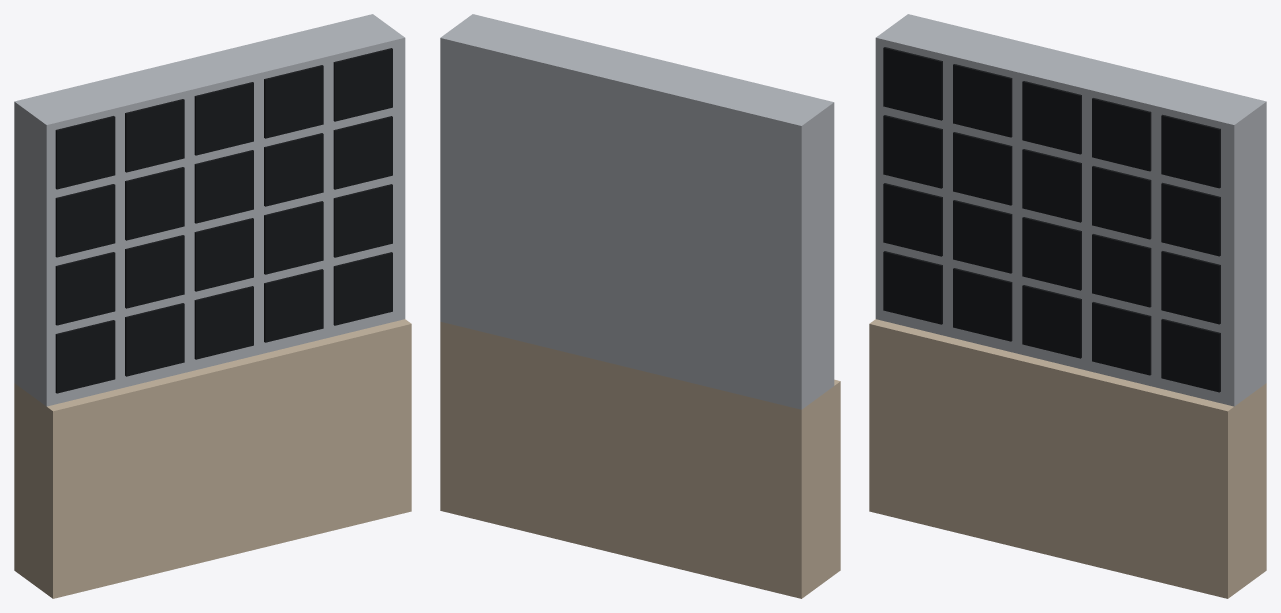
File: city_mailboxes.glb
3 views of the same model, side by side, from view 1: azimuth 30°, elevation 25°; view 2: azimuth 150°, elevation 25°; view 3: azimuth 330°, elevation 25° (orthographic).
Visible parts, largest first — view 1: CityMailboxes_Base, CityMailboxes_Boxes, CityMailboxes_Door30, CityMailboxes_Door00, CityMailboxes_Door20, CityMailboxes_Door10, CityMailboxes_Door04, CityMailboxes_Door11, CityMailboxes_Door01, CityMailboxes_Door14, CityMailboxes_Door21, CityMailboxes_Door24 (+10 smaller); view 2: CityMailboxes_Boxes, CityMailboxes_Base; view 3: CityMailboxes_Base, CityMailboxes_Boxes, CityMailboxes_Door00, CityMailboxes_Door13, CityMailboxes_Door20, CityMailboxes_Door23, CityMailboxes_Door30, CityMailboxes_Door33, CityMailboxes_Door02, CityMailboxes_Door03, CityMailboxes_Door22, CityMailboxes_Door34 (+10 smaller).
Part boxes in pixels (bbox=[...]): CityMailboxes_Base: bbox=[14, 319, 411, 598]; CityMailboxes_Boxes: bbox=[14, 14, 405, 406]; CityMailboxes_Door30: bbox=[55, 116, 115, 189]; CityMailboxes_Door00: bbox=[55, 320, 115, 393]; CityMailboxes_Door20: bbox=[55, 184, 115, 257]; CityMailboxes_Door10: bbox=[55, 252, 115, 325]; CityMailboxes_Door04: bbox=[333, 252, 392, 325]; CityMailboxes_Door11: bbox=[125, 235, 184, 308]; CityMailboxes_Door01: bbox=[125, 303, 184, 376]; CityMailboxes_Door14: bbox=[333, 184, 392, 257]; CityMailboxes_Door21: bbox=[125, 167, 184, 240]; CityMailboxes_Door24: bbox=[333, 116, 392, 189]; CityMailboxes_Boxes: bbox=[440, 14, 834, 409]; CityMailboxes_Base: bbox=[440, 321, 840, 598]; CityMailboxes_Base: bbox=[869, 319, 1266, 598]; CityMailboxes_Boxes: bbox=[875, 14, 1266, 406]; CityMailboxes_Door00: bbox=[883, 251, 942, 324]; CityMailboxes_Door13: bbox=[1092, 234, 1151, 307]; CityMailboxes_Door20: bbox=[883, 115, 942, 188]; CityMailboxes_Door23: bbox=[1092, 166, 1151, 239]; CityMailboxes_Door30: bbox=[883, 47, 942, 120]; CityMailboxes_Door33: bbox=[1092, 98, 1151, 171]; CityMailboxes_Door02: bbox=[1022, 285, 1081, 358]; CityMailboxes_Door03: bbox=[1092, 302, 1151, 375]; CityMailboxes_Door22: bbox=[1022, 149, 1081, 222]; CityMailboxes_Door34: bbox=[1161, 114, 1220, 188].
Size of the model in its own units: 1.6 by 2 by 0.3.
